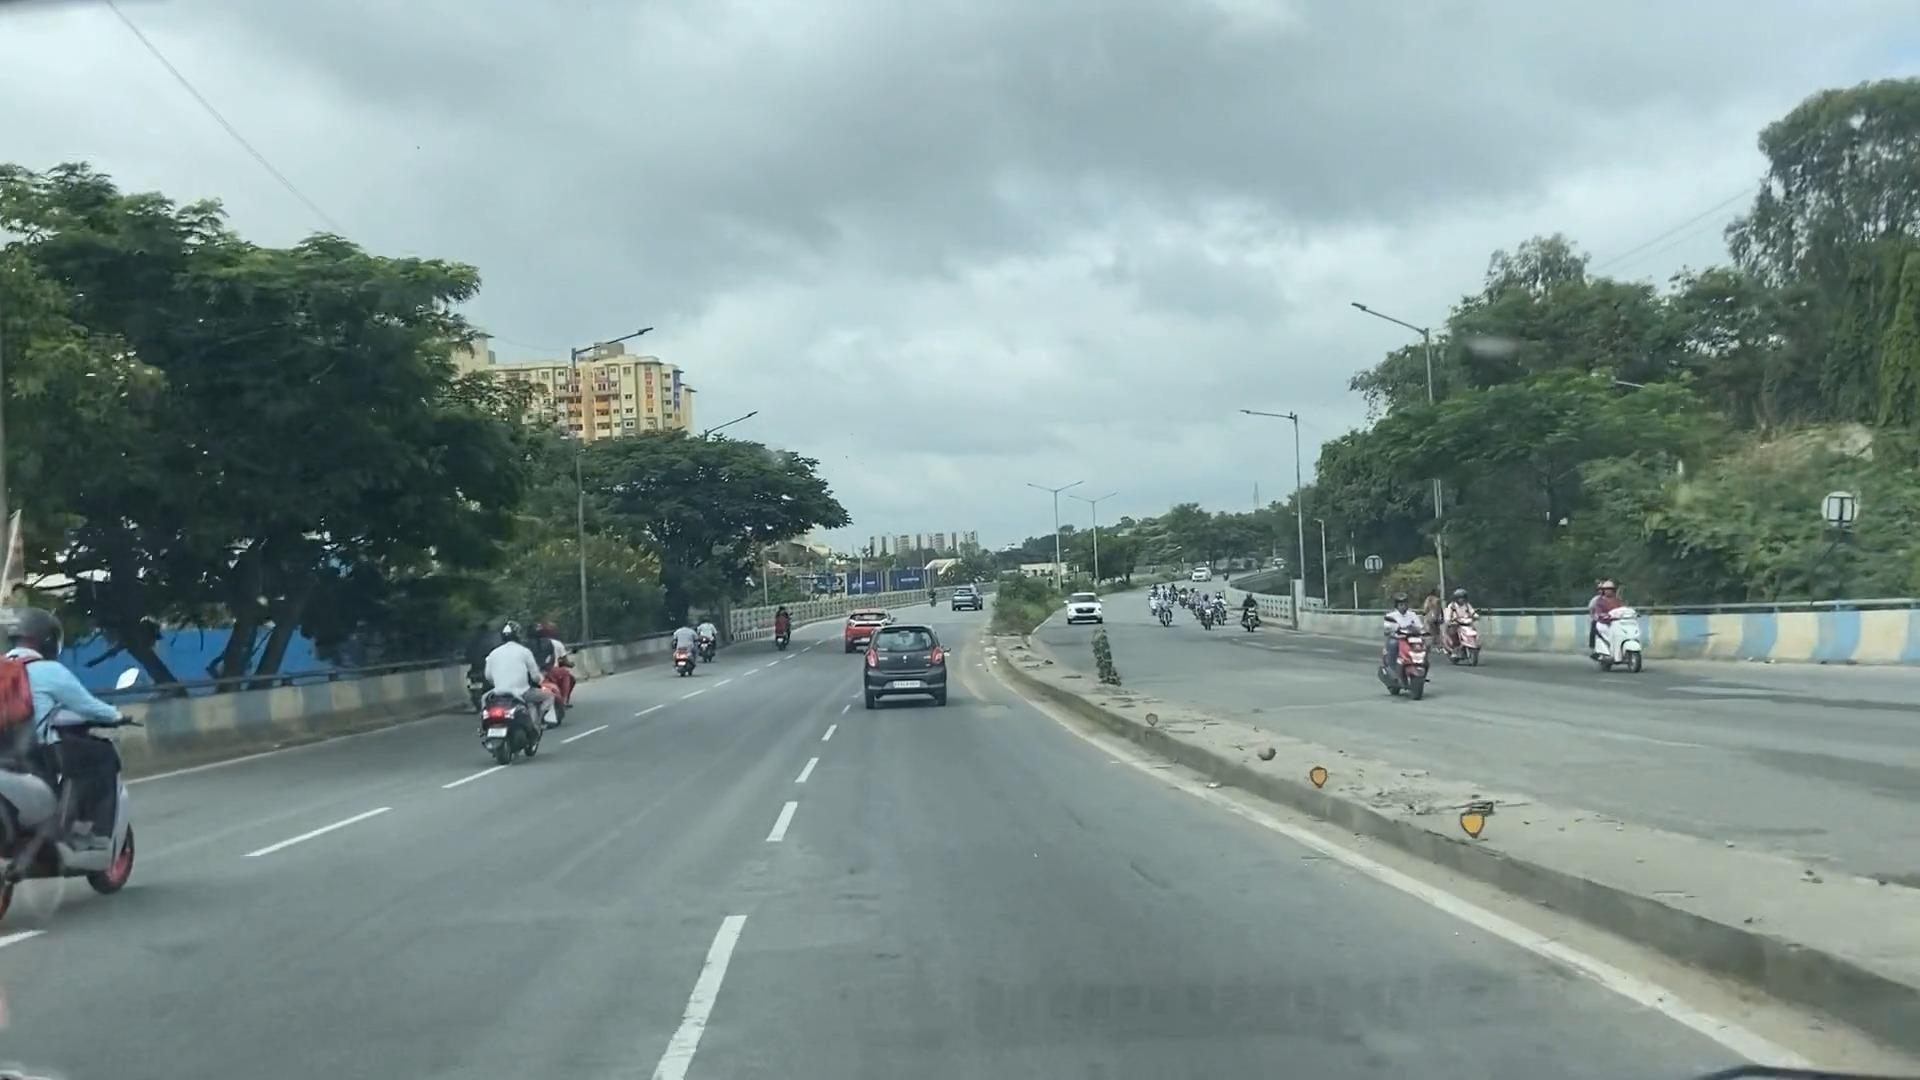LMV: (15, 624, 142, 868), (483, 622, 541, 752), (868, 622, 944, 699)
